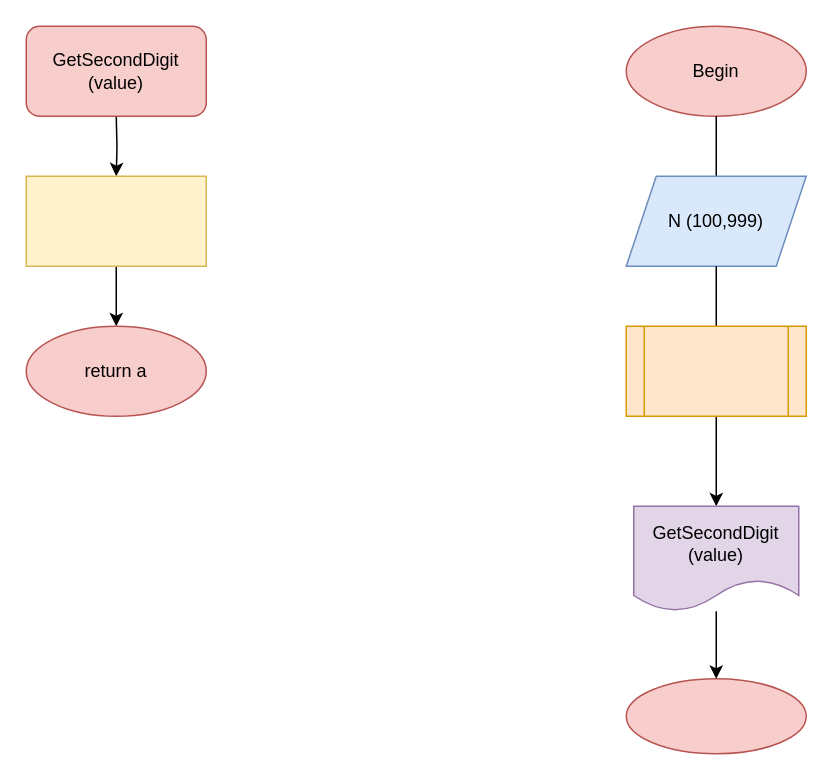
The diagram is 833 pixels wide and 780 high, and some of its shapes have lost their labels. Each missing label, with the centre of its shape:
End: [715,715]
GetSecondDigit: [715,370]
value = |value| a = (value %100) /10: [115,220]
